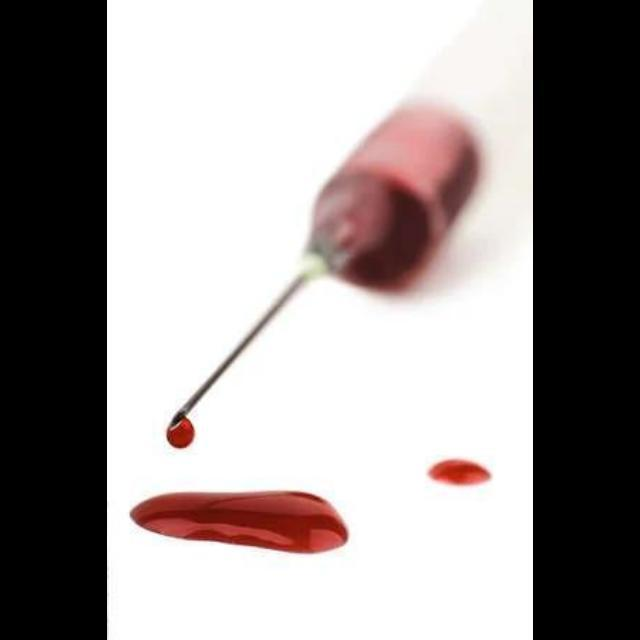blood: (313, 105, 480, 289), (130, 494, 349, 554), (430, 461, 492, 486), (167, 411, 195, 449)
